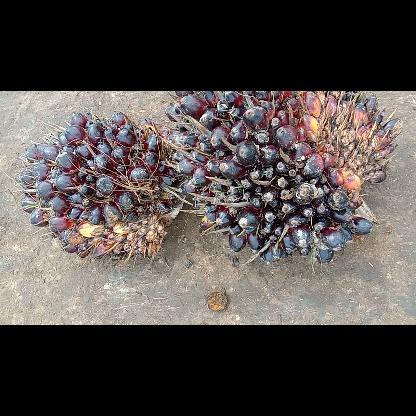TBS mentah: (165, 93, 405, 262), (18, 113, 180, 260)
